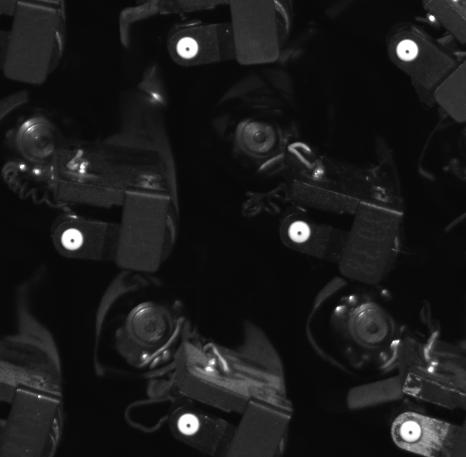fiber: (390, 414, 425, 447), (169, 34, 206, 64), (57, 226, 95, 255), (173, 410, 206, 441), (286, 218, 319, 248), (394, 34, 423, 65)
